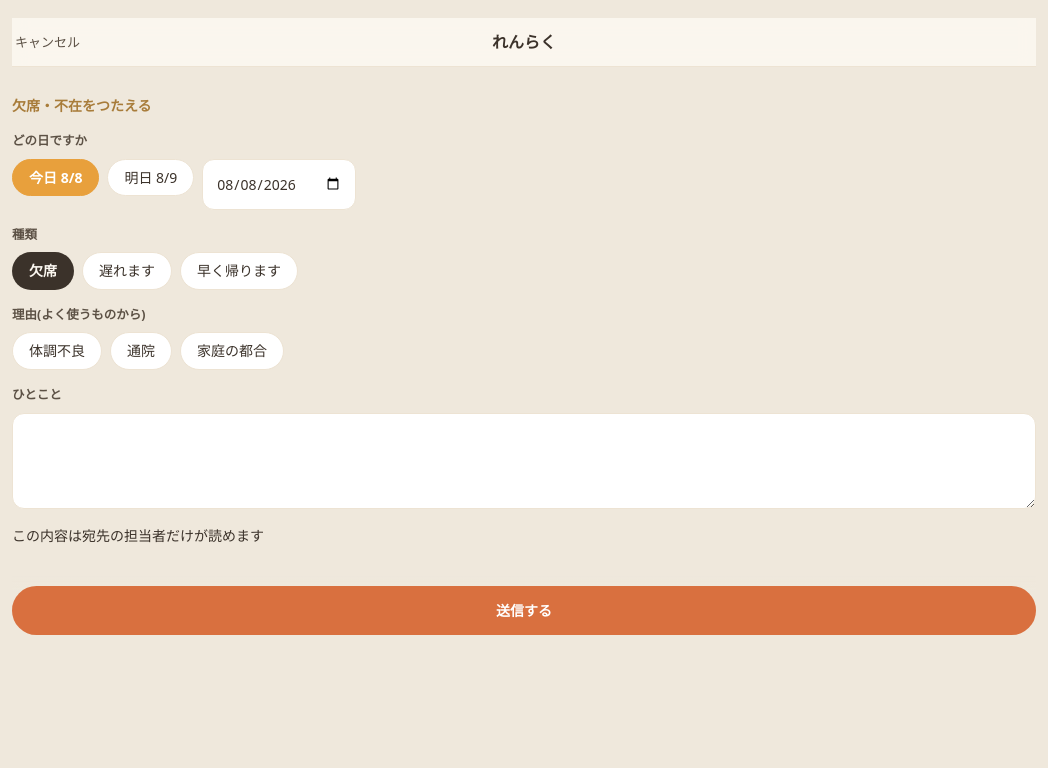
Test: the れんらく form, as the design draws it › moves the date to tomorrow when the chip is pressed
Click the button with test id "date-chip" showing "明日 8/9" at (151, 178), box [108, 159, 194, 196]
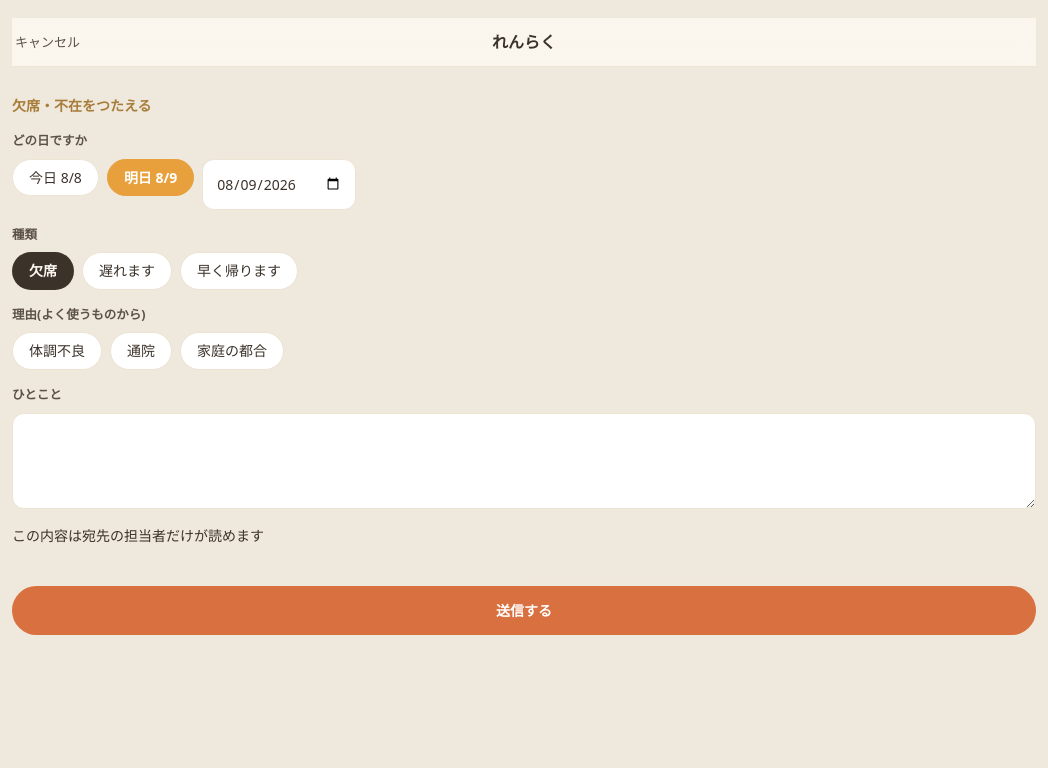
Expected: the date field with test id "date" does not hold "2026-08-08", [202, 159, 356, 210]
